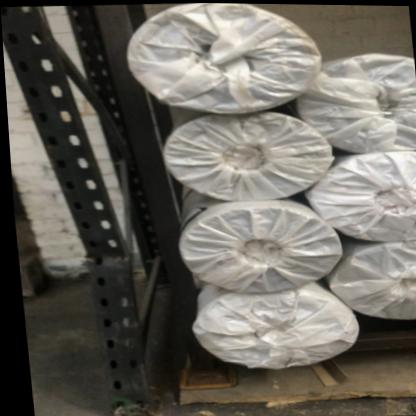vertical_damage: (51, 188, 150, 339)
